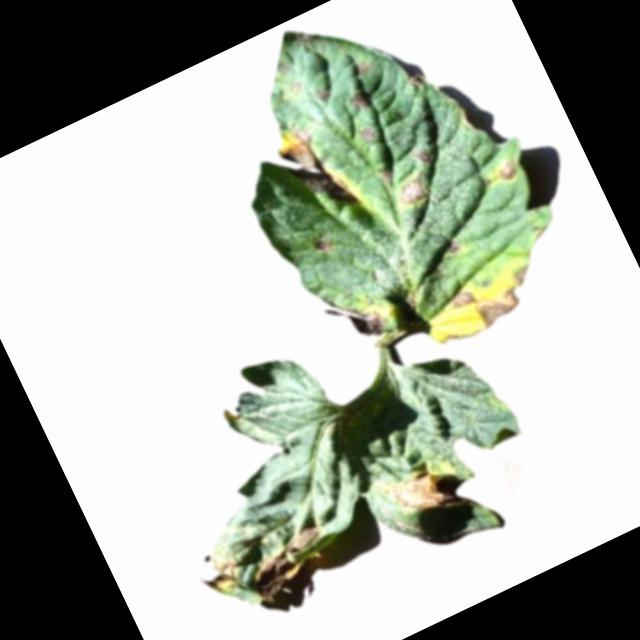Early_blight: (442, 257, 545, 342), (238, 522, 339, 605), (272, 123, 354, 218), (378, 457, 466, 535), (319, 282, 391, 354), (189, 544, 248, 603), (395, 171, 437, 214), (345, 87, 374, 116), (494, 161, 521, 186), (352, 121, 377, 146), (309, 238, 335, 260), (414, 143, 436, 169), (352, 60, 373, 79), (446, 240, 465, 259), (312, 87, 331, 104)
